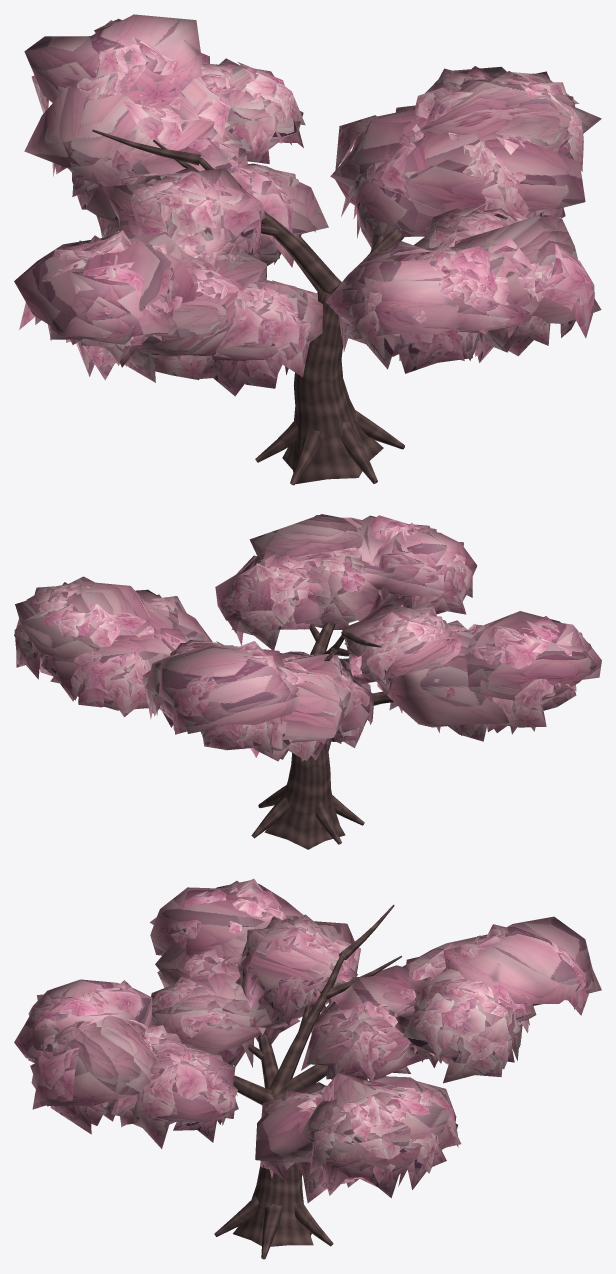
The model's file is SakuraBlossomTree.fbx.
3 views of the same model, one above another, from view 1: azimuth 30°, elevation 25°; view 2: azimuth 150°, elevation 25°; view 3: azimuth 270°, elevation 25° (orthographic). The views are drawn at different scales.
Parts seen in each view (by area): view 1: SakuraBlossomTree_Foliage, SakuraBlossomTree_Bark; view 2: SakuraBlossomTree_Foliage, SakuraBlossomTree_Bark; view 3: SakuraBlossomTree_Foliage, SakuraBlossomTree_Bark.
Part boxes in pixels (<box>): SakuraBlossomTree_Foliage: <box>14,14,601,396</box>; SakuraBlossomTree_Bark: <box>92,129,404,485</box>; SakuraBlossomTree_Foliage: <box>14,514,601,761</box>; SakuraBlossomTree_Bark: <box>251,621,393,849</box>; SakuraBlossomTree_Foliage: <box>14,878,601,1202</box>; SakuraBlossomTree_Bark: <box>214,904,401,1259</box>.
Size of the model in its own units: 19.46 by 10.07 by 18.92.
2 materials, 2 textured.
